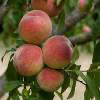Peach leaf: (74, 69, 99, 99), (64, 43, 81, 71), (2, 79, 29, 93), (57, 8, 67, 38), (91, 15, 100, 46), (0, 47, 17, 62)
